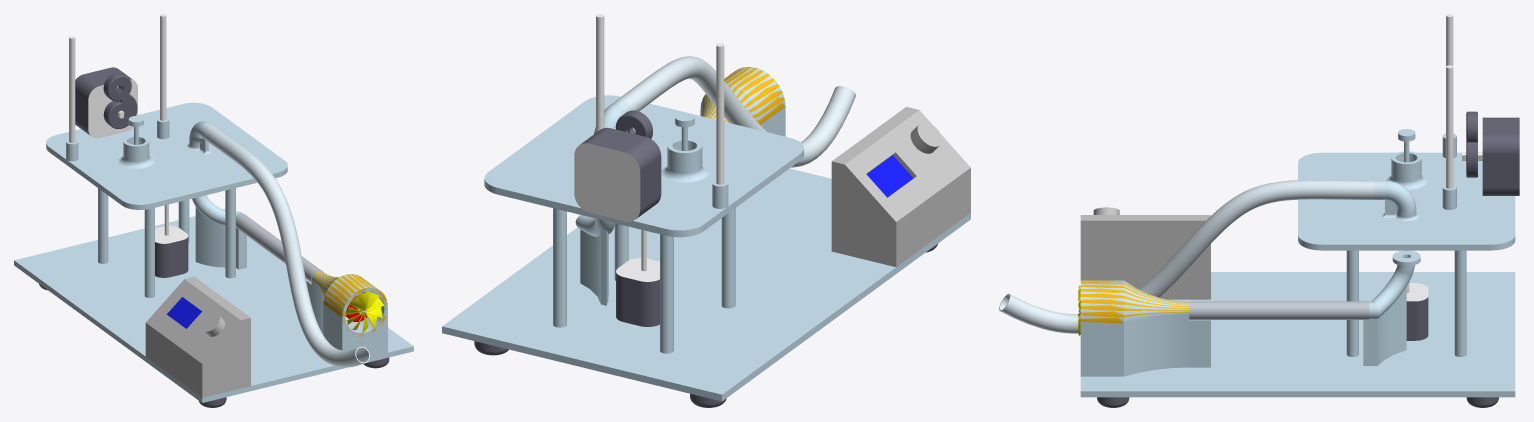
Rendered from FruitFlyDispenser-Base.gltf.
3 renders of one model, left to right at view 1: azimuth 30°, elevation 25°; view 2: azimuth 150°, elevation 25°; view 3: azimuth 270°, elevation 25°, orthographic. The views are drawn at different scales.
Parts seen in each view (by area): view 1: mesh146_meshnode_146, mesh81_meshnode_81, mesh223_meshnode_223, mesh241_meshnode_241, mesh249_meshnode_249, mesh169_meshnode_169, mesh252_meshnode_252, mesh153_meshnode_153, mesh108_meshnode_108, mesh222_meshnode_222, mesh226_meshnode_226, mesh167_meshnode_167 (+22 smaller); view 2: mesh146_meshnode_146, mesh81_meshnode_81, mesh241_meshnode_241, mesh248_meshnode_248, mesh223_meshnode_223, mesh104_meshnode_104, mesh252_meshnode_252, mesh168_meshnode_168, mesh167_meshnode_167, mesh135_meshnode_135, mesh134_meshnode_134, mesh133_meshnode_133 (+21 smaller); view 3: mesh146_meshnode_146, mesh81_meshnode_81, mesh251_meshnode_251, mesh222_meshnode_222, mesh162_meshnode_162, mesh226_meshnode_226, mesh166_meshnode_166, mesh156_meshnode_156, mesh151_meshnode_151, mesh233_meshnode_233, mesh134_meshnode_134, mesh165_meshnode_165 (+15 smaller).
Boxes of the visible parts, x1,y1,x2,y2 form: mesh146_meshnode_146: [14, 209, 413, 385]; mesh81_meshnode_81: [46, 102, 287, 204]; mesh223_meshnode_223: [206, 129, 362, 367]; mesh241_meshnode_241: [146, 279, 240, 363]; mesh249_meshnode_249: [202, 318, 250, 397]; mesh169_meshnode_169: [202, 287, 413, 402]; mesh252_meshnode_252: [145, 323, 202, 397]; mesh153_meshnode_153: [195, 207, 225, 267]; mesh108_meshnode_108: [88, 79, 137, 138]; mesh222_meshnode_222: [212, 128, 363, 367]; mesh226_meshnode_226: [236, 213, 321, 282]; mesh167_meshnode_167: [14, 260, 202, 402]; mesh146_meshnode_146: [442, 168, 895, 394]; mesh81_meshnode_81: [484, 95, 803, 230]; mesh241_meshnode_241: [845, 110, 970, 221]; mesh248_meshnode_248: [831, 161, 896, 266]; mesh223_meshnode_223: [627, 57, 855, 167]; mesh104_meshnode_104: [574, 143, 640, 221]; mesh252_meshnode_252: [896, 168, 970, 266]; mesh168_meshnode_168: [442, 326, 721, 401]; mesh167_meshnode_167: [722, 213, 970, 401]; mesh135_meshnode_135: [660, 234, 673, 353]; mesh134_meshnode_134: [553, 208, 566, 327]; mesh133_meshnode_133: [721, 208, 735, 308]; mesh146_meshnode_146: [1080, 272, 1515, 391]; mesh81_meshnode_81: [1298, 152, 1515, 244]; mesh251_meshnode_251: [1080, 220, 1210, 299]; mesh222_meshnode_222: [1001, 180, 1369, 333]; mesh162_meshnode_162: [1124, 314, 1189, 376]; mesh226_meshnode_226: [1189, 301, 1369, 319]; mesh166_meshnode_166: [1080, 391, 1515, 397]; mesh156_meshnode_156: [1080, 323, 1123, 376]; mesh151_meshnode_151: [1377, 287, 1406, 365]; mesh233_meshnode_233: [1080, 280, 1123, 323]; mesh134_meshnode_134: [1454, 250, 1466, 356]; mesh165_meshnode_165: [1124, 280, 1189, 323].
Bounding box in the file's own units: 0.13 × 0.1517 × 0.2394.
